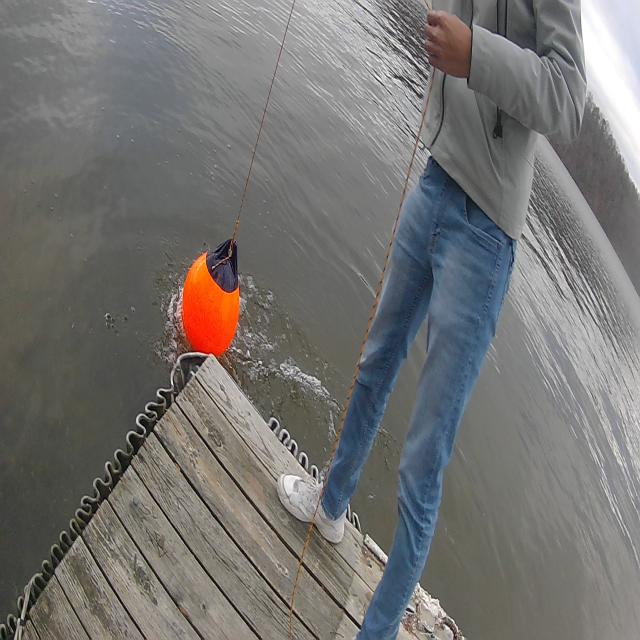Buoy: (176, 229, 247, 368)
